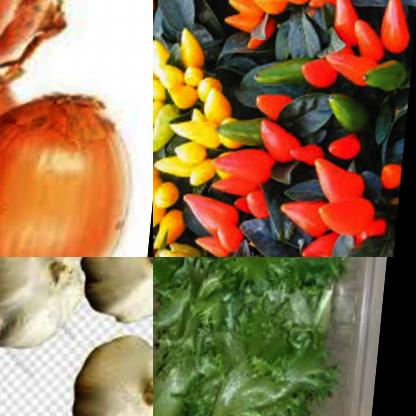garlic: (0, 257, 90, 351), (74, 331, 153, 416), (82, 257, 153, 327)
hot pepper: (206, 93, 320, 222), (153, 21, 237, 192), (287, 0, 416, 104), (171, 187, 276, 257), (259, 190, 356, 257), (153, 148, 207, 257), (205, 0, 322, 42), (305, 156, 376, 206), (246, 54, 318, 99), (321, 87, 379, 135), (320, 192, 383, 232), (372, 156, 405, 195), (323, 127, 366, 156)
onion: (0, 83, 153, 257)
salad: (153, 257, 363, 416)
